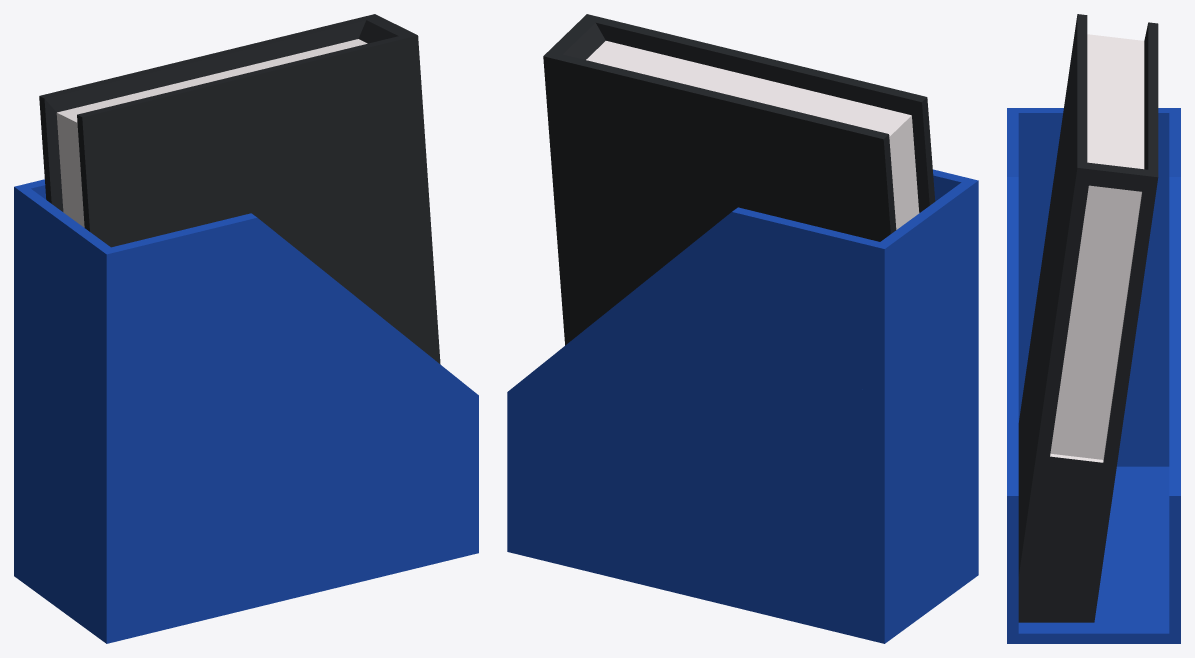
Rendered from Doc_Folder_Broken.fbx.
3 views of the same model, side by side, from view 1: azimuth 30°, elevation 25°; view 2: azimuth 150°, elevation 25°; view 3: azimuth 270°, elevation 25° (orthographic). The views are drawn at different scales.
Visible parts, largest first — view 1: Doc_Folder_Box.001, Doc_Folder_Box.003, Doc_Folder_Box.002, Doc_Folder_Box.004; view 2: Doc_Folder_Box.001, Doc_Folder_Box.003, Doc_Folder_Box.002, Doc_Folder_Box.004; view 3: Doc_Folder_Box.004, Doc_Folder_Box.001, Doc_Folder_Box.003, Doc_Folder_Box.002.
Boxes of the visible parts, x1,y1,x2,y2 form: Doc_Folder_Box.001: [14, 270, 478, 643]; Doc_Folder_Box.003: [39, 14, 426, 250]; Doc_Folder_Box.002: [14, 179, 321, 406]; Doc_Folder_Box.004: [299, 164, 440, 364]; Doc_Folder_Box.001: [507, 265, 978, 643]; Doc_Folder_Box.003: [543, 14, 935, 245]; Doc_Folder_Box.002: [666, 169, 978, 403]; Doc_Folder_Box.004: [551, 164, 688, 345]; Doc_Folder_Box.004: [1018, 253, 1142, 622]; Doc_Folder_Box.001: [1007, 252, 1180, 643]; Doc_Folder_Box.003: [1043, 14, 1158, 282]; Doc_Folder_Box.002: [1007, 108, 1180, 270].
Bounding box in the file's own units: 77.66 × 98.91 × 33.45.
